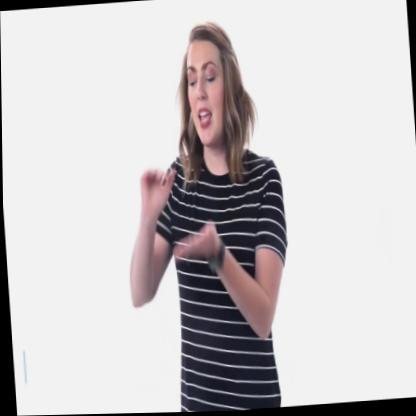ExcuseMe: (124, 138, 230, 292)
